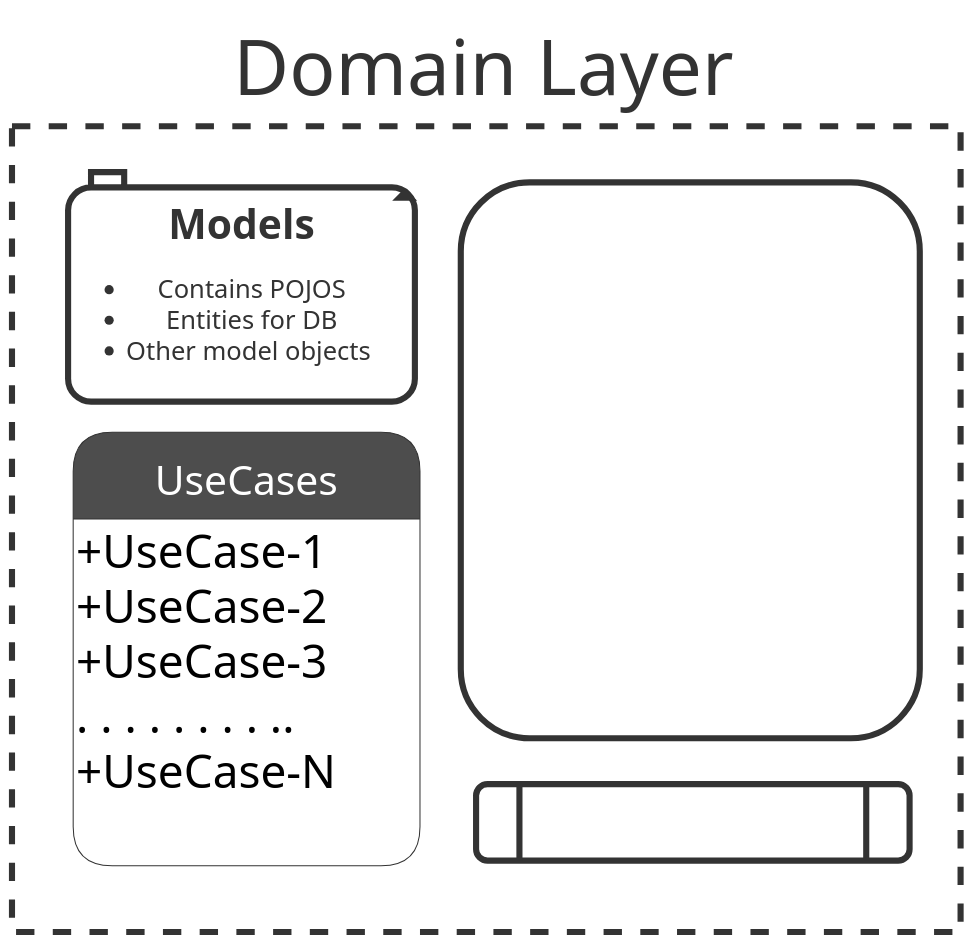
The diagram is 972 pixels wide and 944 high, and some of its shapes have lost their labels. Here are the shapes that lost their labels. From the top down, the box of each, then its label:
(457, 179, 923, 741): «Interface» Repository
(473, 781, 912, 863): Utils
